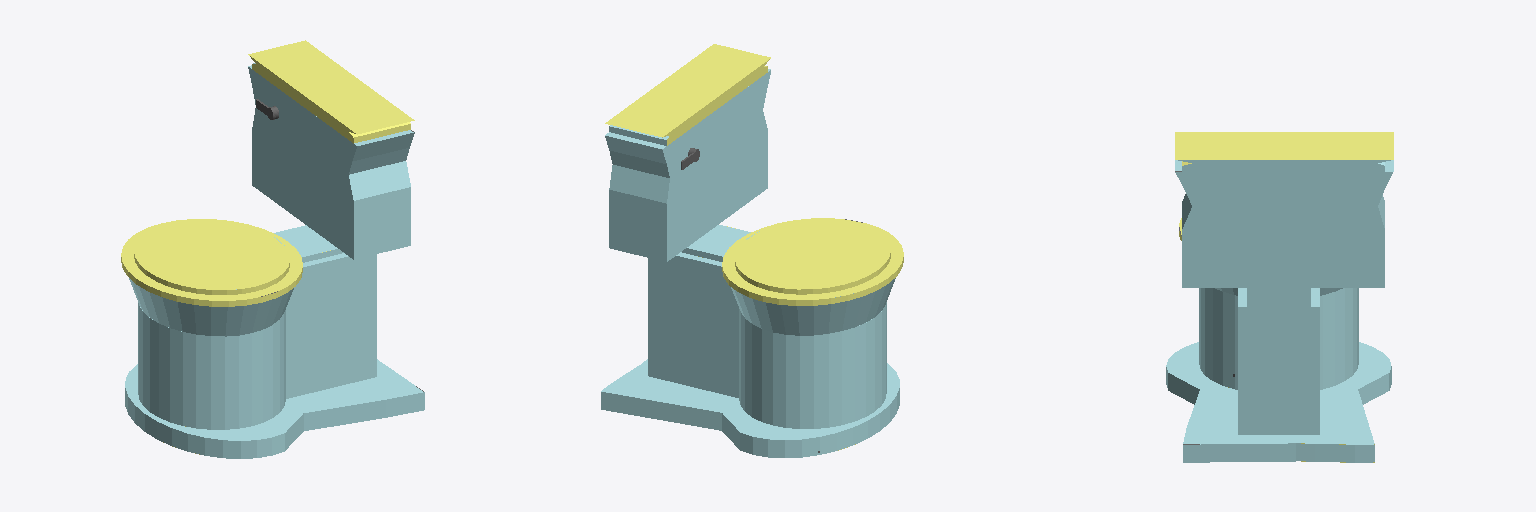
3 views of the same model, side by side, from view 1: azimuth 30°, elevation 25°; view 2: azimuth 150°, elevation 25°; view 3: azimuth 270°, elevation 25° (orthographic).
Parts seen in each view (by area): view 1: Cilindro.011_Cilindro.013; view 2: Cilindro.011_Cilindro.013; view 3: Cilindro.011_Cilindro.013.
Part boxes in pixels (x1,y1,x2,y2): Cilindro.011_Cilindro.013: (121,40,424,458); Cilindro.011_Cilindro.013: (601,44,903,457); Cilindro.011_Cilindro.013: (1166,132,1393,462).
Bounding box in the file's own units: 9.77 × 11.48 × 7.99.
Materials: 1 (1 with a texture image).